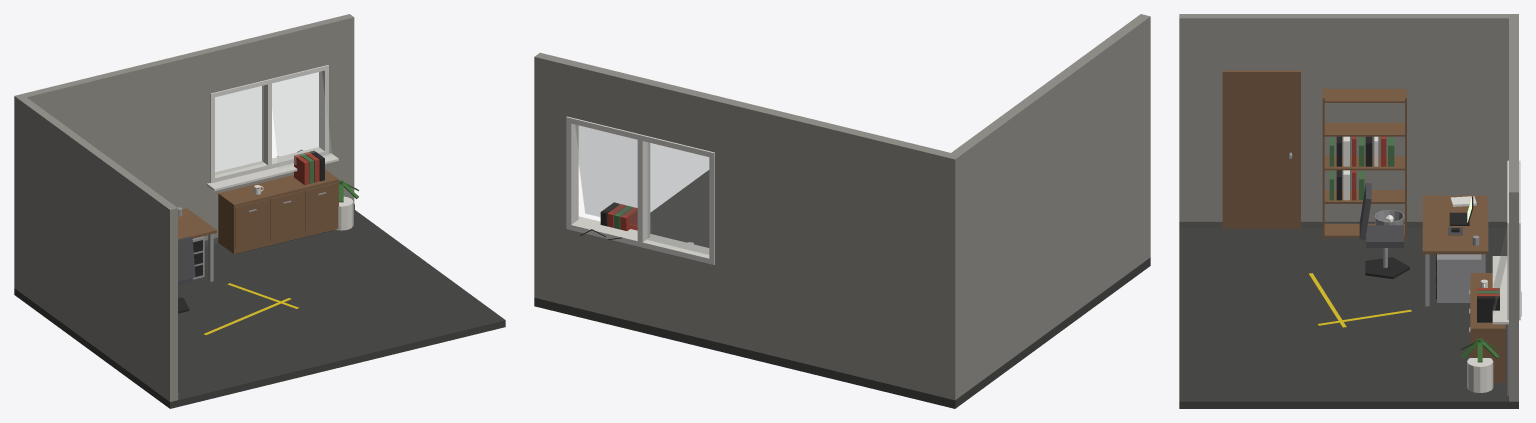
Rendered from buero-412.glb.
3 views of the same model, side by side, from view 1: azimuth 30°, elevation 25°; view 2: azimuth 150°, elevation 25°; view 3: azimuth 270°, elevation 25° (orthographic). The views are drawn at different scales.
Visible parts, largest first — view 1: Boden, Wand_links, Wand_hinten_a, Wand_hinten_oben, Glas_rechts_gekippt, Wand_hinten_b, Glas_links, Sideboard, Sideboard_Tuer_0, Sideboard_Tuer_1, Sideboard_Tuer_2, Fensterbank (+9 smaller); view 2: Wand_hinten_a, Wand_links, Wand_hinten_unten, Boden, Wand_hinten_oben, Wand_hinten_b, Glas_links, Glas_rechts_gekippt, Rahmen_unten, Rahmen_mitte, Rahmen_rechts, Rahmen_oben (+1 smaller); view 3: Boden, Wand_links, Tuer, Tischplatte, Wand_hinten_b, Rollcontainer, Sideboard, Regalboden_3, Regalboden_4, Wand_hinten_a, Fensterbank, Pflanzentopf (+13 smaller).
Boxes of the visible parts, <box> form: Boden: <box>14,210,505,408</box>; Wand_links: <box>14,94,177,401</box>; Wand_hinten_a: <box>22,49,210,240</box>; Wand_hinten_oben: <box>206,20,328,93</box>; Glas_rechts_gekippt: <box>272,71,331,168</box>; Wand_hinten_b: <box>324,14,354,203</box>; Glas_links: <box>215,86,263,174</box>; Sideboard: <box>218,169,338,254</box>; Sideboard_Tuer_0: <box>235,199,268,248</box>; Sideboard_Tuer_1: <box>270,191,303,240</box>; Sideboard_Tuer_2: <box>305,182,337,231</box>; Fensterbank: <box>207,153,338,191</box>; Wand_hinten_a: <box>715,97,950,397</box>; Wand_links: <box>945,14,1150,400</box>; Wand_hinten_unten: <box>567,229,714,341</box>; Boden: <box>534,170,1150,408</box>; Wand_hinten_oben: <box>567,61,720,152</box>; Wand_hinten_b: <box>534,52,572,305</box>; Glas_links: <box>647,142,708,254</box>; Glas_rechts_gekippt: <box>575,125,651,229</box>; Rahmen_unten: <box>571,219,711,264</box>; Rahmen_mitte: <box>637,134,650,247</box>; Rahmen_rechts: <box>566,117,578,229</box>; Rahmen_oben: <box>566,116,714,158</box>; Boden: <box>1179,228,1518,408</box>; Wand_links: <box>1179,14,1518,221</box>; Tuer: <box>1222,70,1300,228</box>; Tischplatte: <box>1422,195,1488,254</box>; Wand_hinten_b: <box>1509,178,1518,401</box>; Rollcontainer: <box>1437,254,1481,302</box>; Sideboard: <box>1471,273,1505,382</box>; Regalboden_3: <box>1323,122,1405,136</box>; Regalboden_4: <box>1324,89,1405,102</box>; Wand_hinten_a: <box>1509,18,1518,115</box>; Fensterbank: <box>1492,256,1508,324</box>; Pflanzentopf: <box>1467,358,1493,392</box>.
Bounding box in the file's own units: 5.12 × 2.9 × 4.15.
